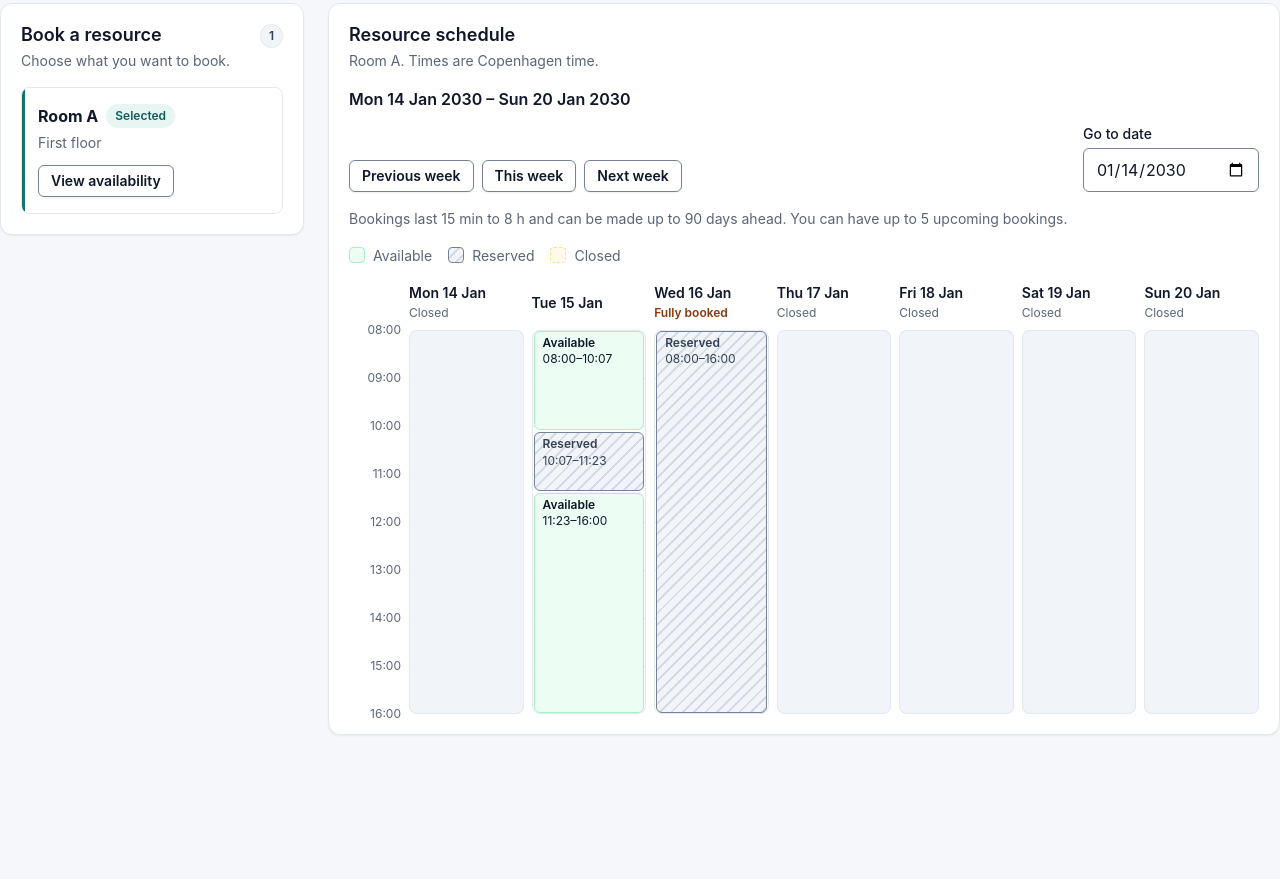
BookingPage calendar › reloads the calendar when someone else booked the time first
Click the button with aria-label "Available Tue 15 Jan 2030, 08:00–10:07. Choose a time" at (589, 380), box [534,331,644,430]
(page scrolled)
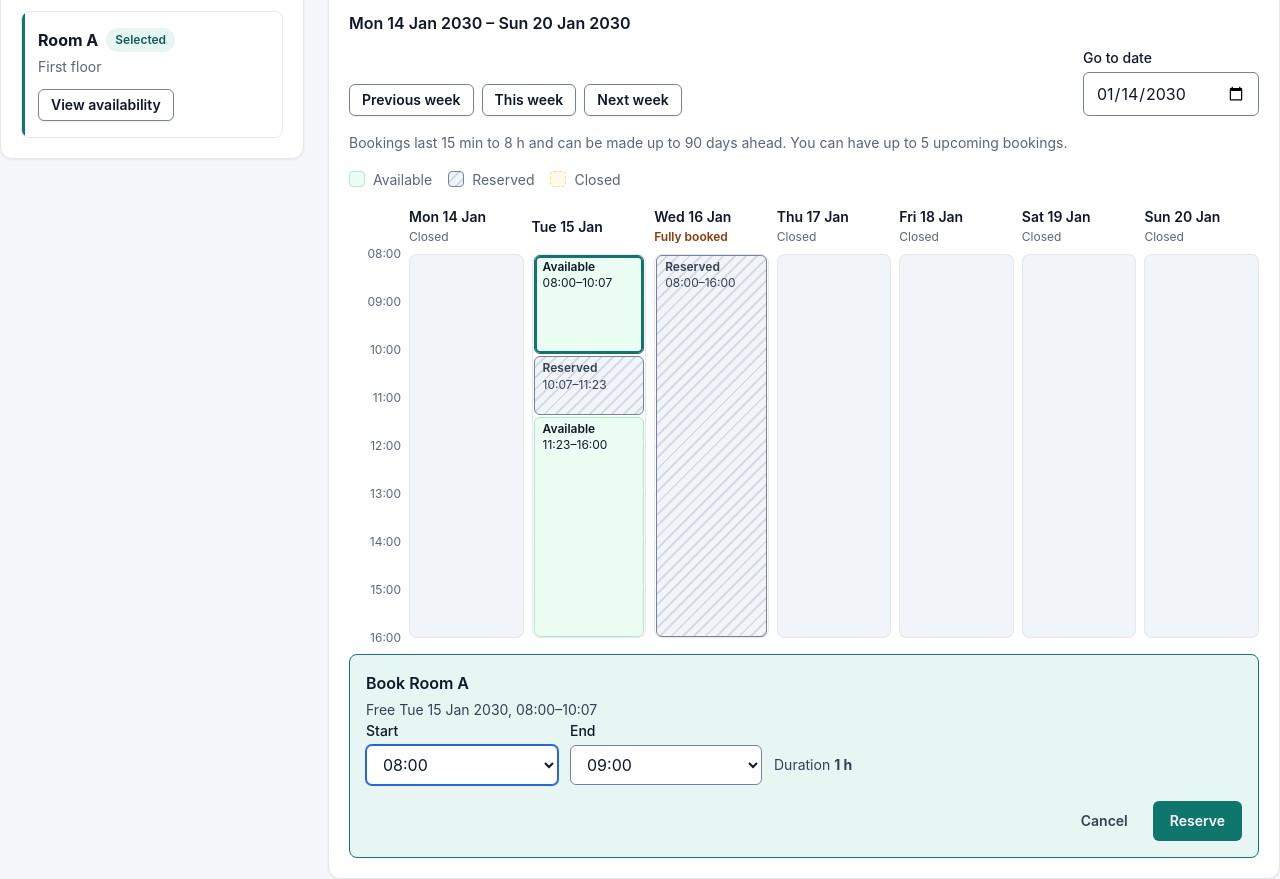
Click the button "Reserve" at (1197, 821), box [1153,801,1242,841]
(page scrolled)
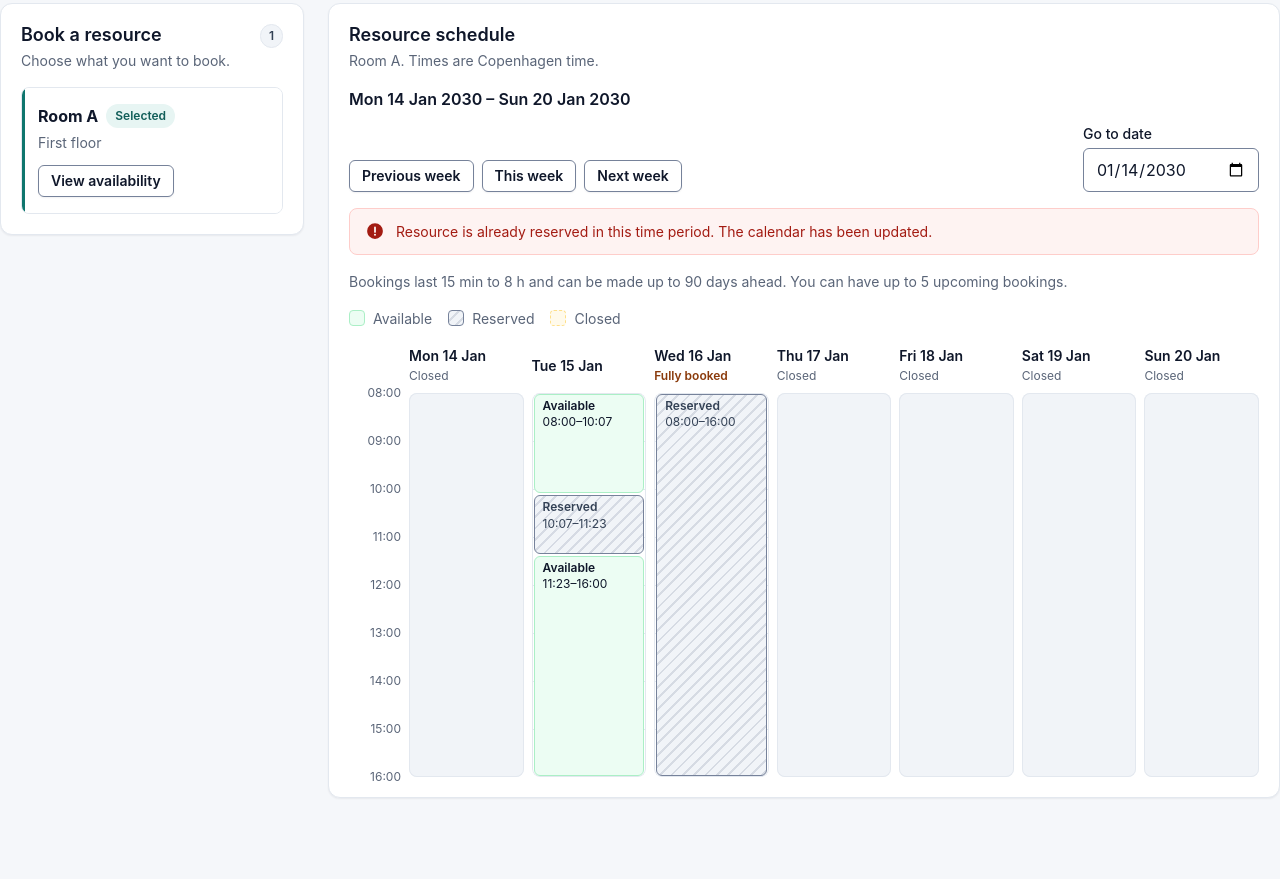
Result: the message reads "Resource is already reserved in this time period. The calendar has been updated." at [396,223,932,240]
